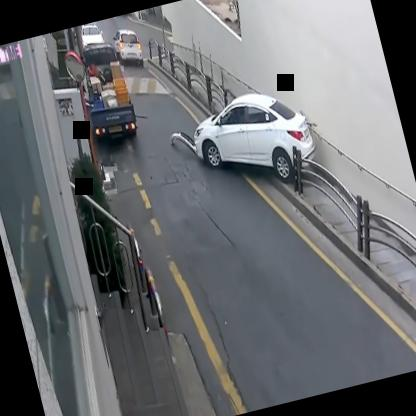accident: (170, 68, 329, 215)
